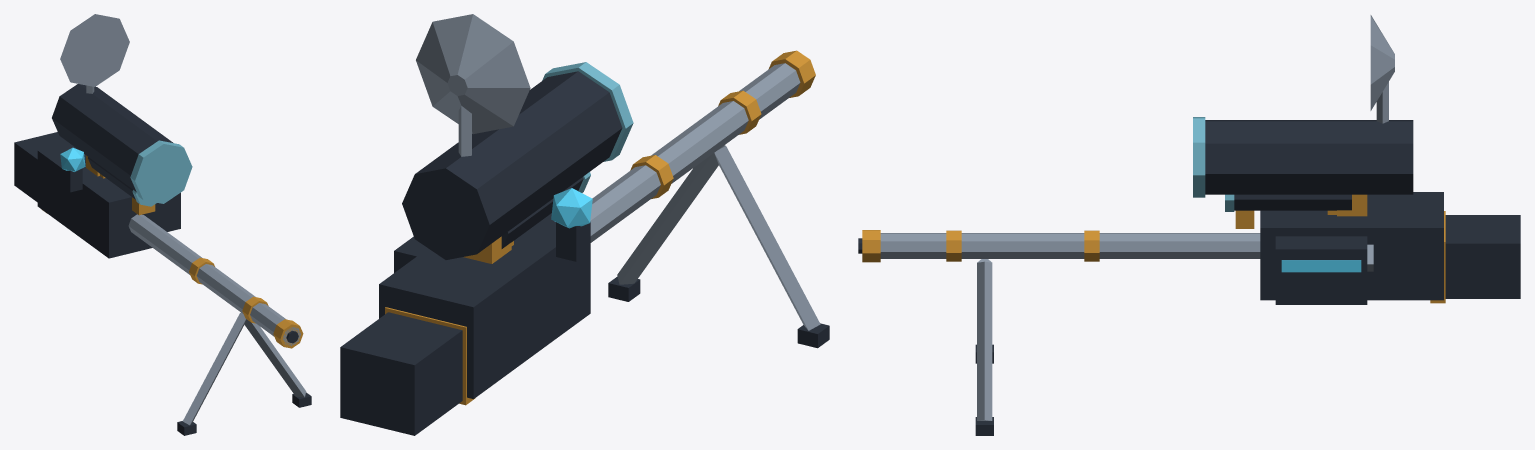
Rendered from SniperB2.obj.
3 views of the same model, side by side, from view 1: azimuth 30°, elevation 25°; view 2: azimuth 150°, elevation 25°; view 3: azimuth 270°, elevation 25° (orthographic). The views are drawn at different scales.
Parts seen in each view (by area): view 1: SniperB2; view 2: SniperB2; view 3: SniperB2.
Boxes of the visible parts, x1=… form: SniperB2: x1=14, y1=14, x2=311, y2=435; SniperB2: x1=340, y1=14, x2=829, y2=435; SniperB2: x1=858, y1=15, x2=1520, y2=435.
Bounding box in the file's own units: 0.62 × 1.37 × 2.16.
